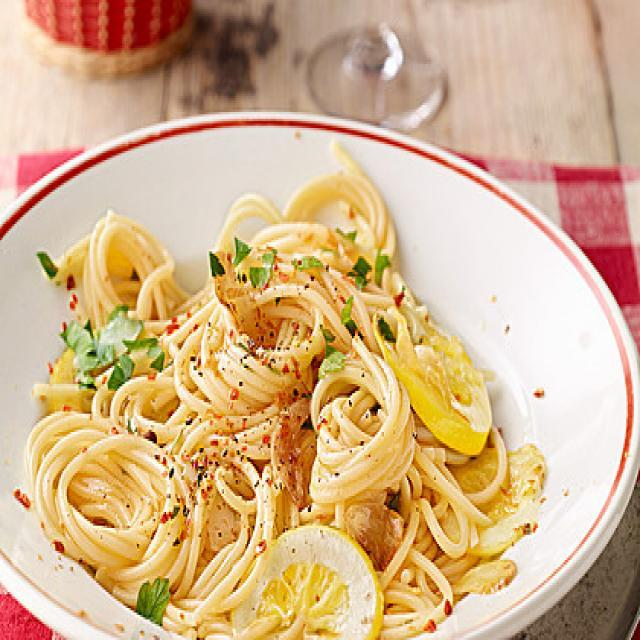Oil pasta: (61, 162, 563, 622)
